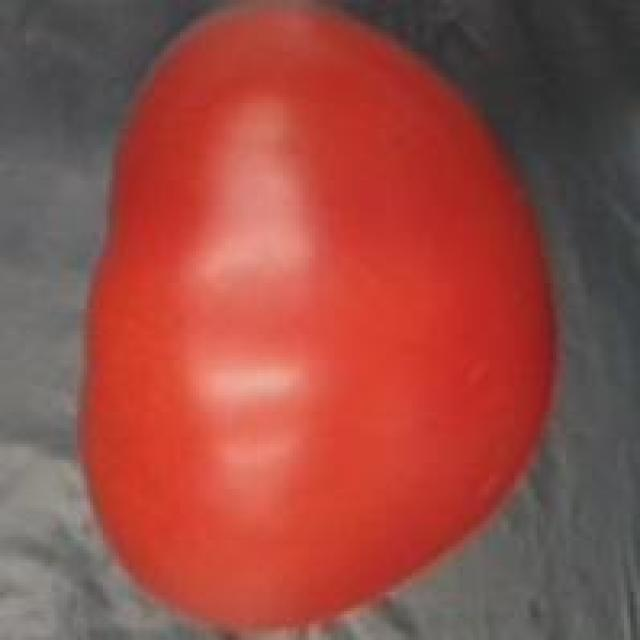ripe tomato: (74, 6, 569, 640)
